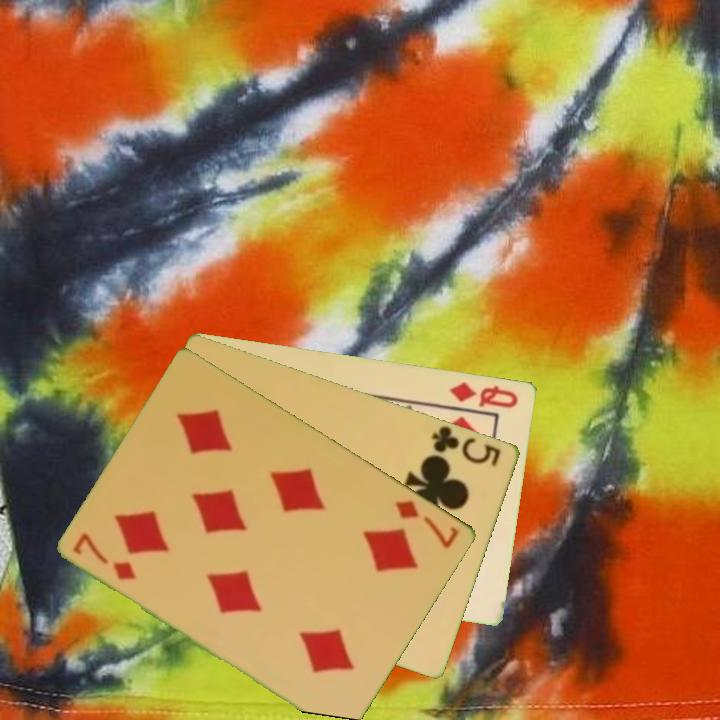5c: (429, 422, 505, 469)
7d: (392, 496, 463, 551), (69, 529, 140, 583)
Qd: (446, 378, 522, 411)
